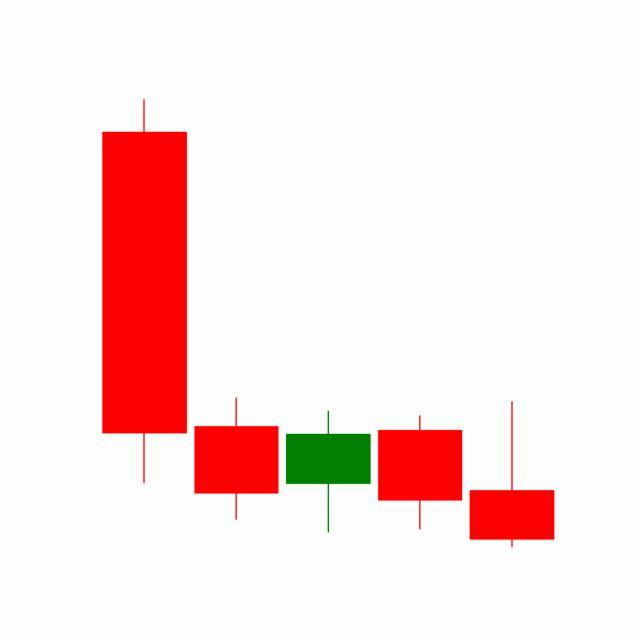Three Outside Up-Down: (280, 399, 555, 549)
